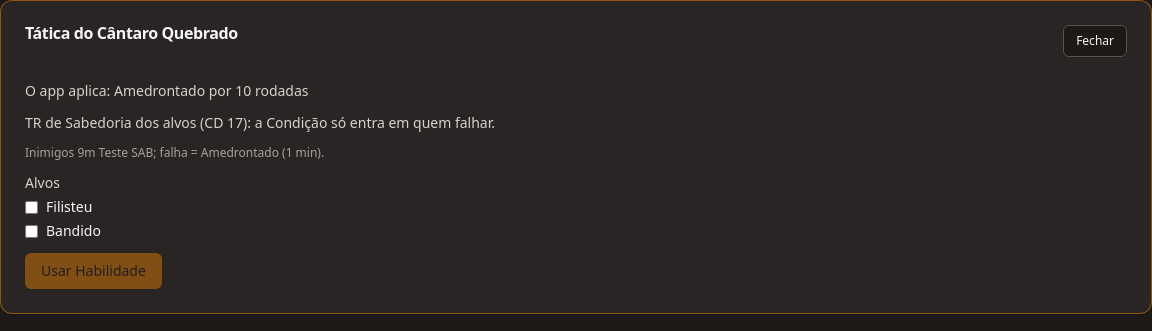
Test: AbilityUsePanel: Habilidade com TR › depois de usar, espera o Mestre lançar o TR e não mostra "resistiu"
The image size is (1152, 331).
What coordinates should you click on to do the following:
click the checkbox labelled "Filisteu"
I would click on:
 (32, 207)
Its box is 25,200 -> 38,214.
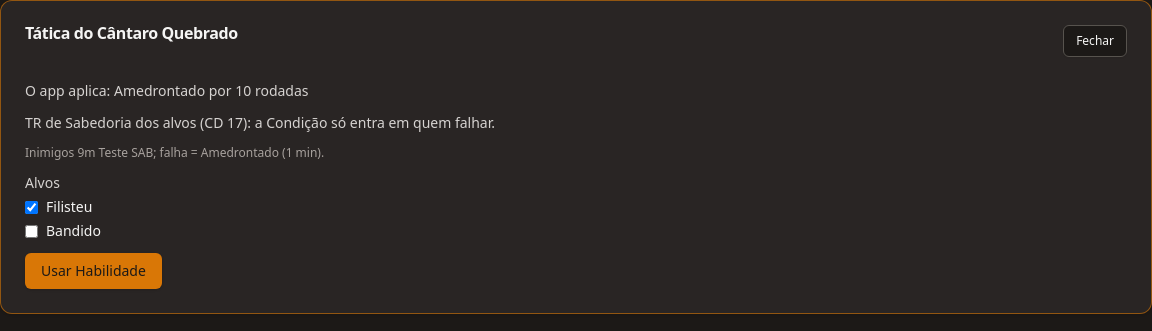
What coordinates should you click on to do the following:
click the button "Usar Habilidade"
I would click on:
 (93, 271)
Its box is 25,253 -> 162,289.
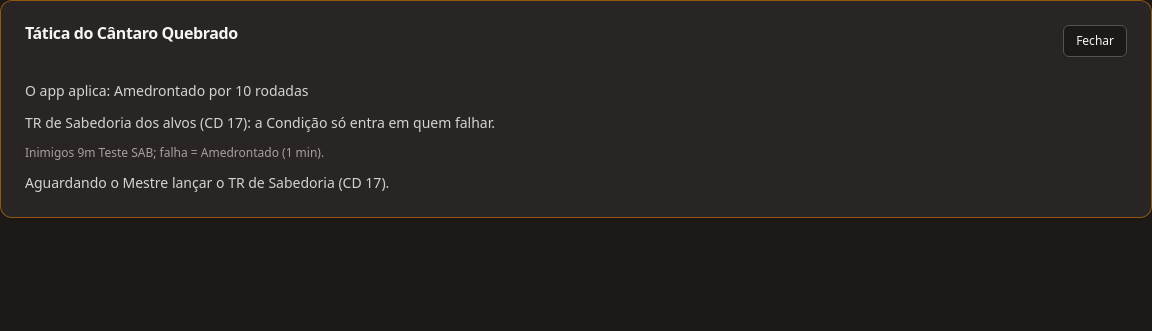
Expected: the text "Aguardando o Mestre lançar o TR de Sabedoria (CD 17)." is shown, 25,173 -> 389,192
